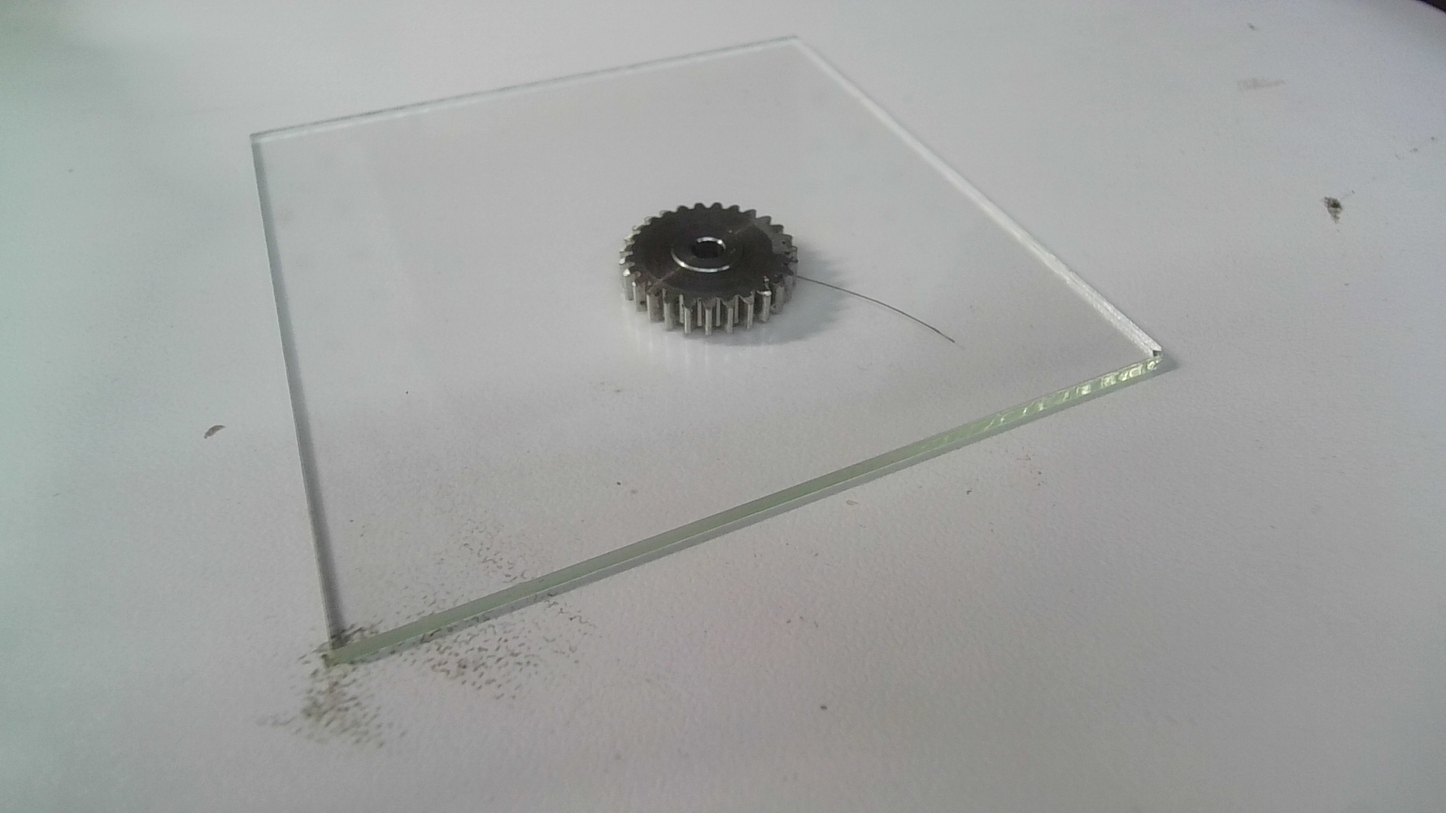gear: (617, 200, 802, 339)
